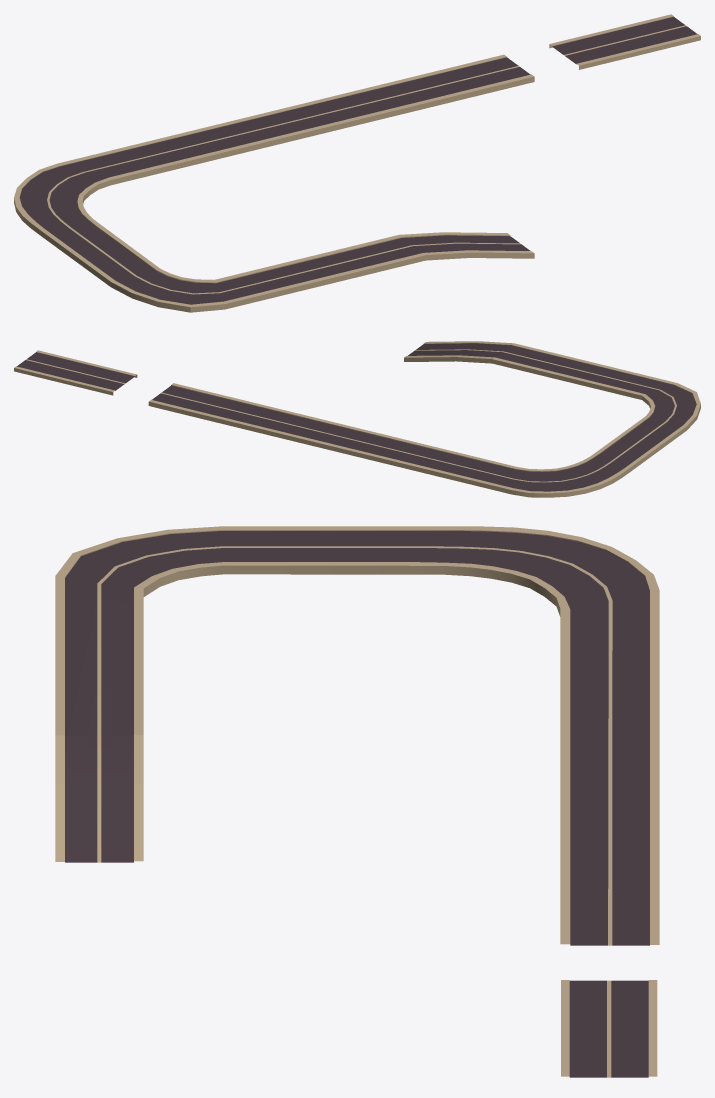
The model's file is MaLu1_Mo.fbx.
3 views of the same model, one above another, from view 1: azimuth 30°, elevation 25°; view 2: azimuth 150°, elevation 25°; view 3: azimuth 270°, elevation 25° (orthographic). The views are drawn at different scales.
Visible parts, largest first — view 1: 对象001; view 2: 对象001; view 3: 对象001.
Part boxes in pixels (x1,y1,x2,y2): 对象001: (14, 14, 700, 312); 对象001: (14, 341, 700, 497); 对象001: (55, 526, 659, 1077).
Bounding box in the file's own units: 14632 × 615 × 6789.
1 material, 1 textured.
